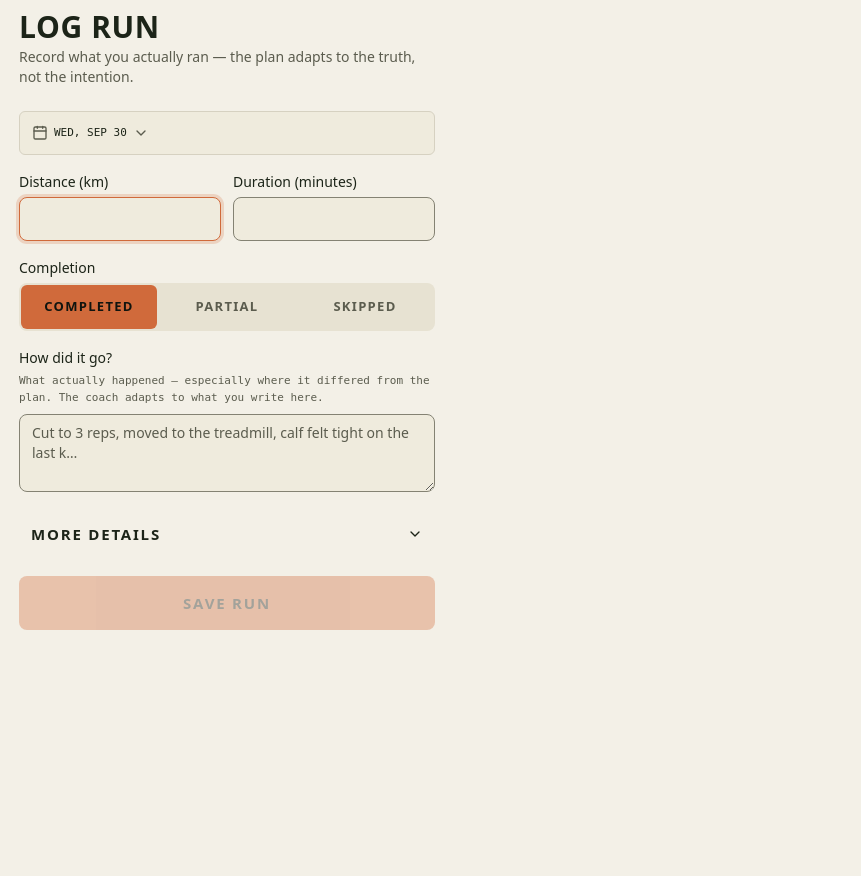
Test: LogPage › submits a minimum payload, shows a success toast, and navigates home
Type "5" into the field labelled "Distance (km)".
click(120, 219); type("5")  # box [19,197,221,241]
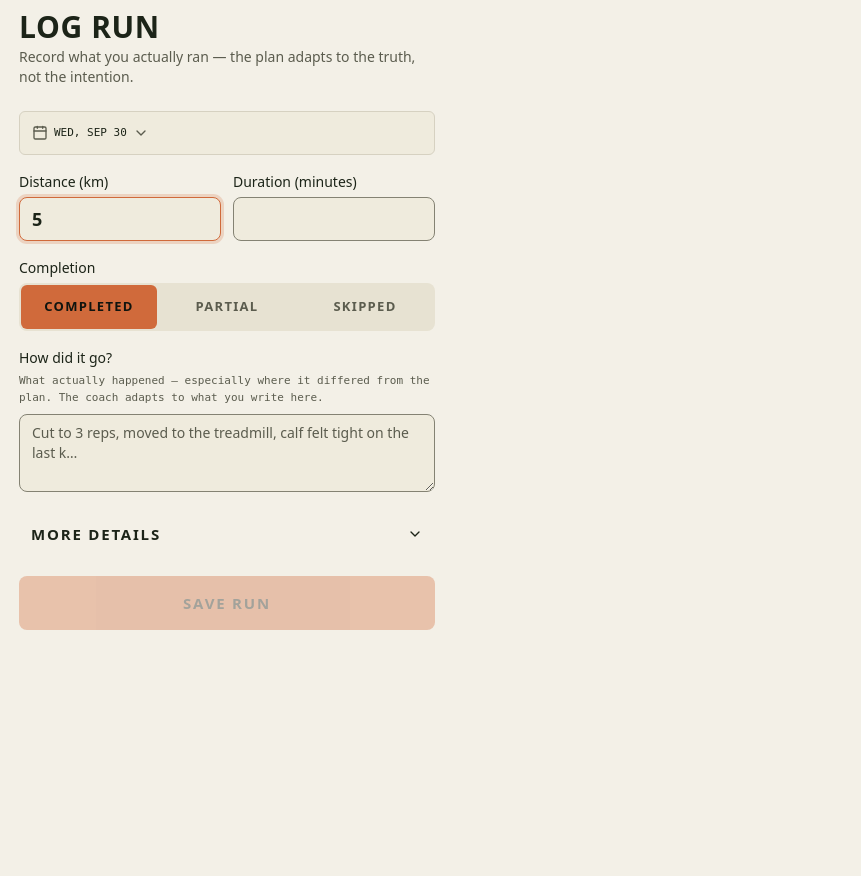
Type "30" into the field labelled "Duration (minutes)".
click(334, 219); type("30")  # box [233,197,435,241]
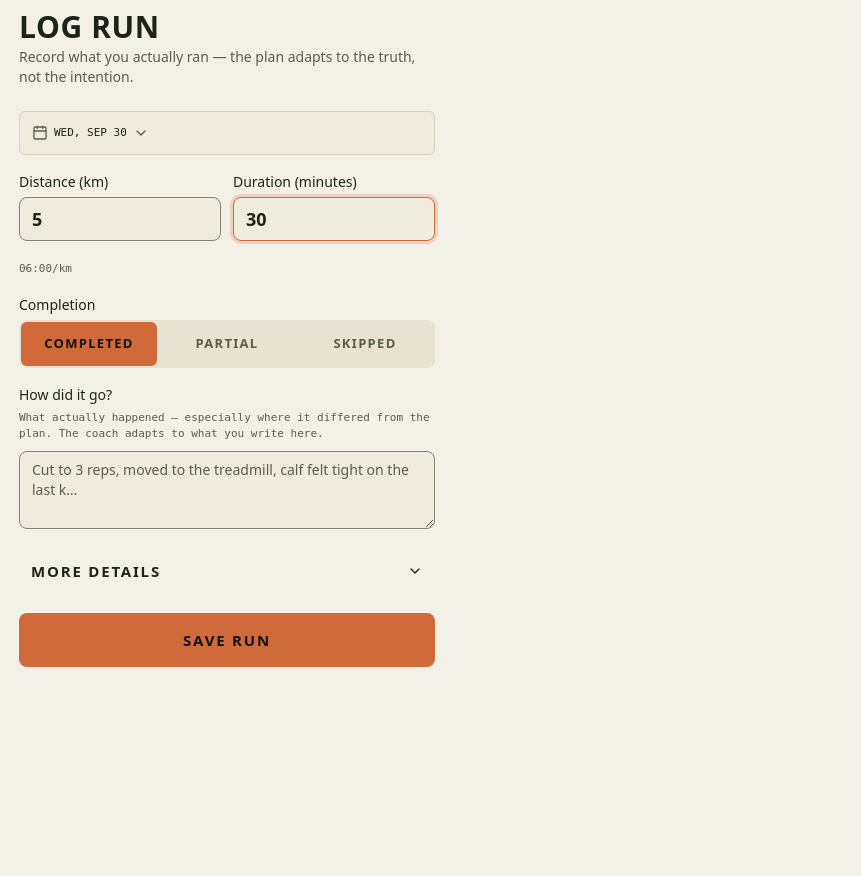
Expected: the button with test id "log-form-submit" is enabled
Click the button with test id "log-form-submit".
click(227, 640)  # box [19,612,435,666]
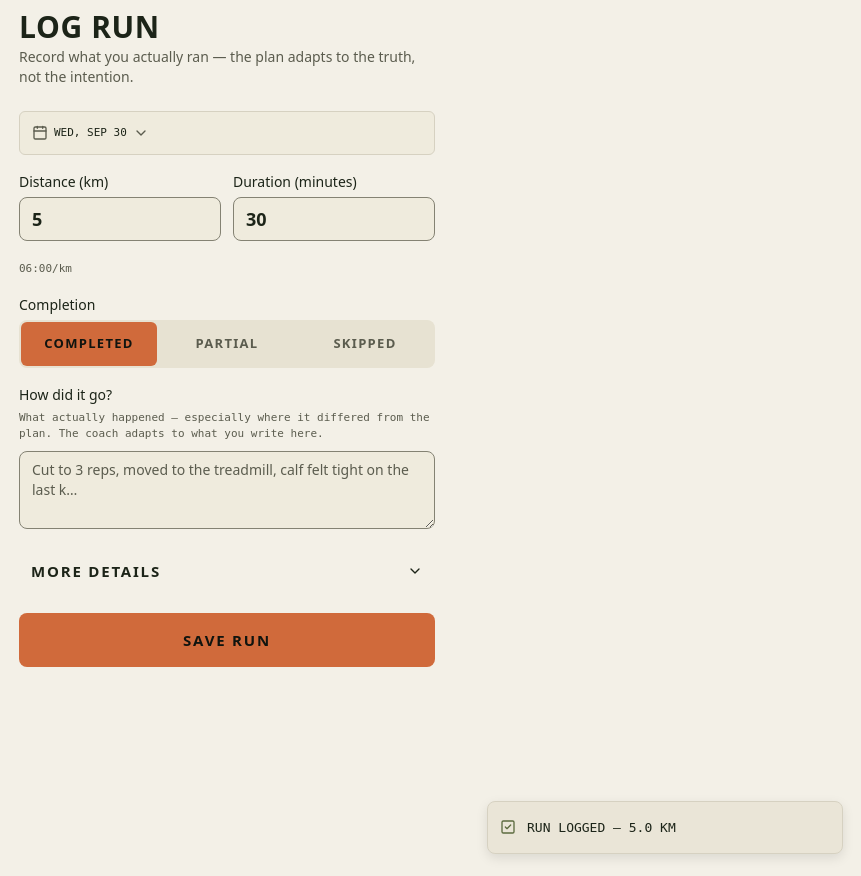
Expected: the text "Run logged — 5.0 km" is shown, [527,818,676,837]
